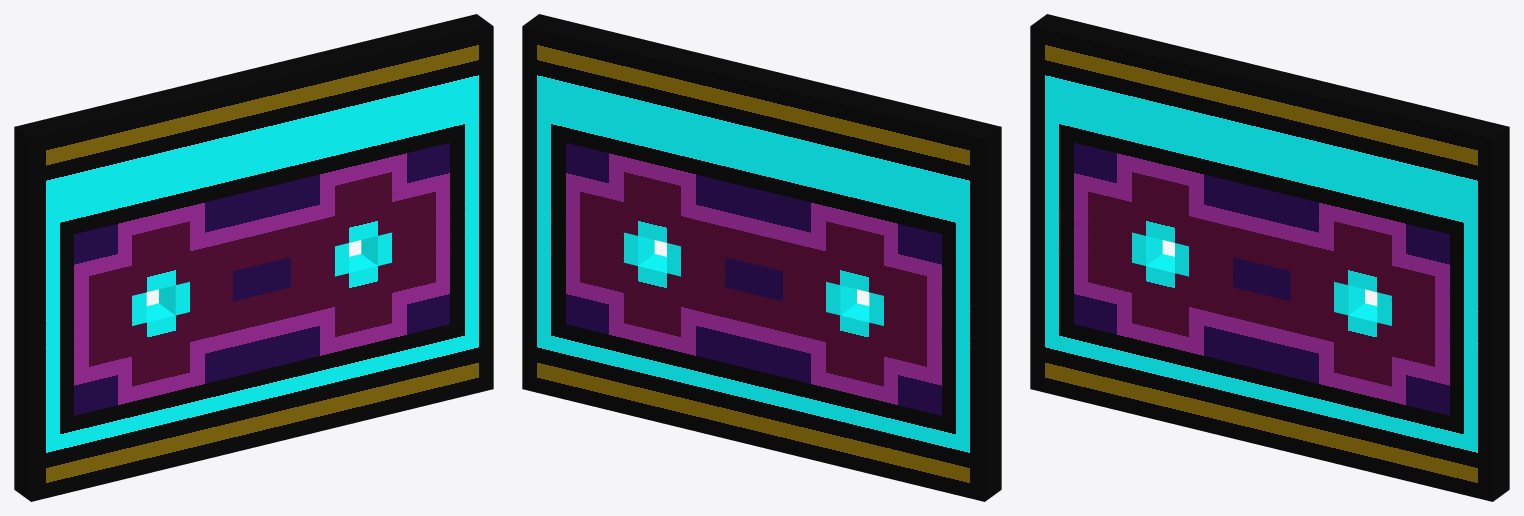
File: neon_music_cassette.glb
3 views of the same model, side by side, from view 1: azimuth 30°, elevation 25°; view 2: azimuth 150°, elevation 25°; view 3: azimuth 330°, elevation 25° (orthographic).
Parts seen in each view (by area): view 1: Object_4; view 2: Object_4; view 3: Object_4.
Boxes of the visible parts, x1,y1,x2,y2 form: Object_4: (14, 14, 493, 501); Object_4: (522, 14, 1001, 501); Object_4: (1030, 14, 1509, 501).
Bounding box in the file's own units: 32 × 24 × 2.
1 material, 1 textured.
